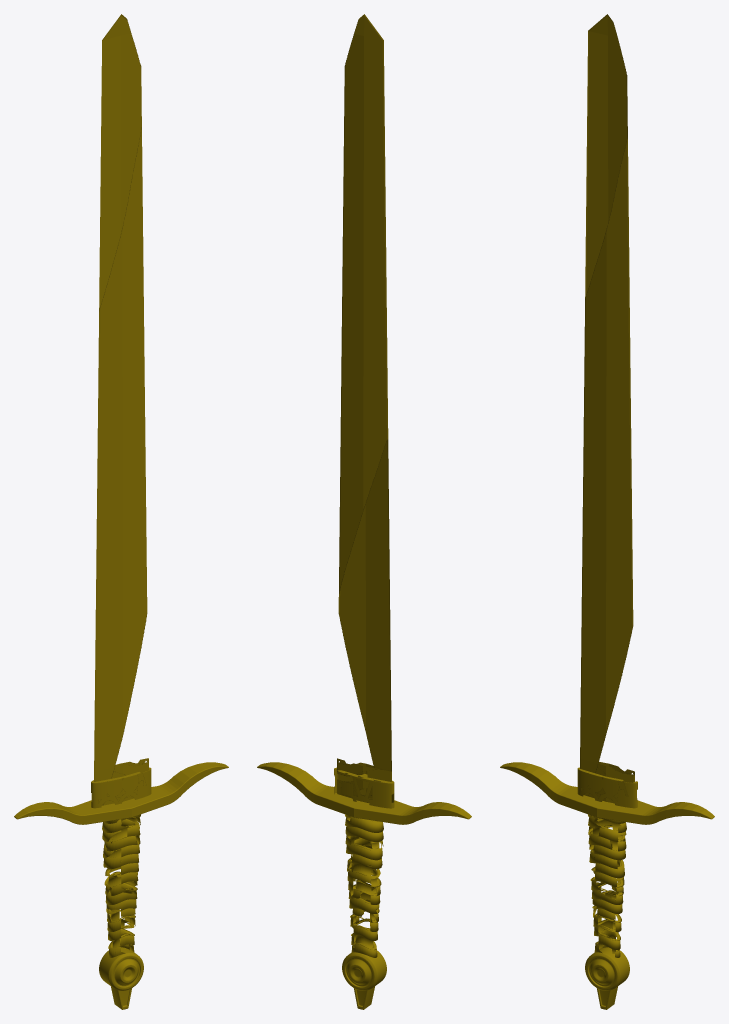
Rendered from Schwert_Export.fbx.
The picture shows the model from 3 angles, left to right: view 1: azimuth 30°, elevation 25°; view 2: azimuth 150°, elevation 25°; view 3: azimuth 330°, elevation 25°; orthographic projection.
Visible parts, largest first — view 1: Cube.001, Cylinder.002, Cube, Cube.002, Cylinder; view 2: Cube.001, Cylinder.002, Cube, Cylinder, Cube.002; view 3: Cube.001, Cylinder.002, Cube, Cylinder, Cube.002.
Boxes of the visible parts, x1,y1,x2,y2 form: Cube.001: (94,14,148,805); Cylinder.002: (102,814,140,957); Cube: (14,762,228,824); Cube.002: (91,767,151,808); Cylinder: (99,947,143,990); Cube.001: (337,14,391,799); Cylinder.002: (345,814,383,957); Cube: (257,762,471,824); Cylinder: (342,950,386,990); Cube.002: (334,767,394,808); Cube.001: (580,14,634,803); Cylinder.002: (588,814,626,957); Cube: (500,762,714,824); Cylinder: (585,947,629,990); Cube.002: (577,767,637,808).
Size of the model in its own units: 1181 by 5289 by 200.
Materials: 3 (3 with a texture image).
